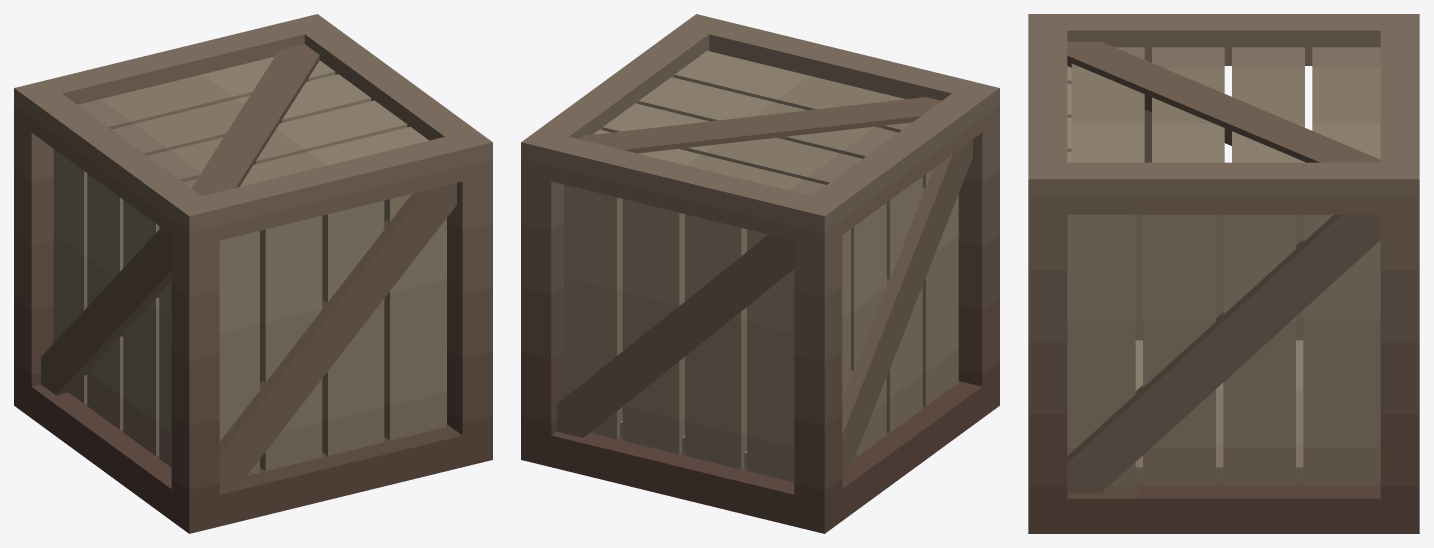
File: DL_Obj_Level3_CrateWood4.fbx
3 renders of one model, left to right at view 1: azimuth 30°, elevation 25°; view 2: azimuth 150°, elevation 25°; view 3: azimuth 270°, elevation 25°, orthographic. The views are drawn at different scales.
Parts seen in each view (by area): view 1: Level3_CrateWood4; view 2: Level3_CrateWood4; view 3: Level3_CrateWood4.
Part boxes in pixels (x1=…): Level3_CrateWood4: x1=14, y1=14, x2=492, y2=533; Level3_CrateWood4: x1=521, y1=14, x2=999, y2=533; Level3_CrateWood4: x1=1028, y1=14, x2=1419, y2=533.
Size of the model in its own units: 100 by 100 by 100.
